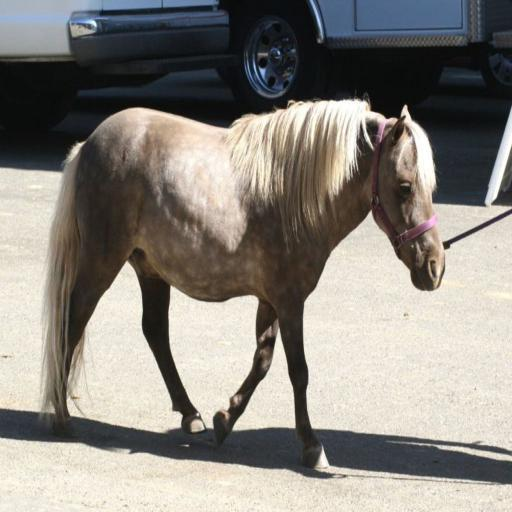horse: (34, 102, 446, 473)
